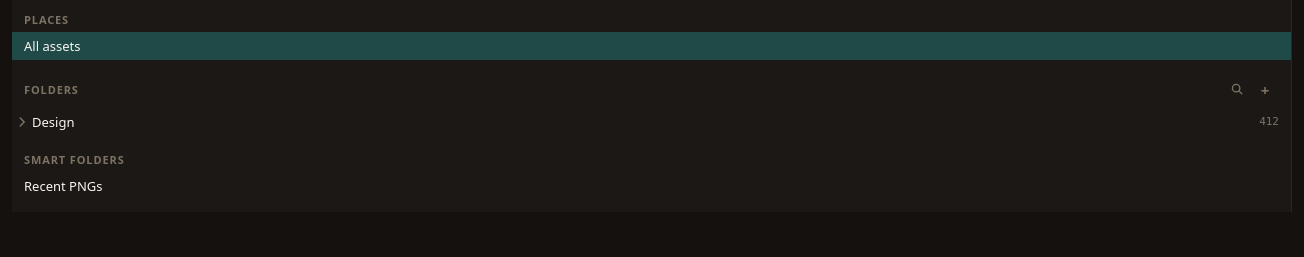
the navigation pane › starts collapsed, and an arrow opens exactly one branch
The image size is (1304, 257).
Expected: the button "Icons" is not shown
Expected: the button "Design 412" is shown, x1=32 y1=108 x2=1291 y2=136
Click the button named "Expand Design": click(22, 122) x1=12 y1=112 x2=32 y2=132
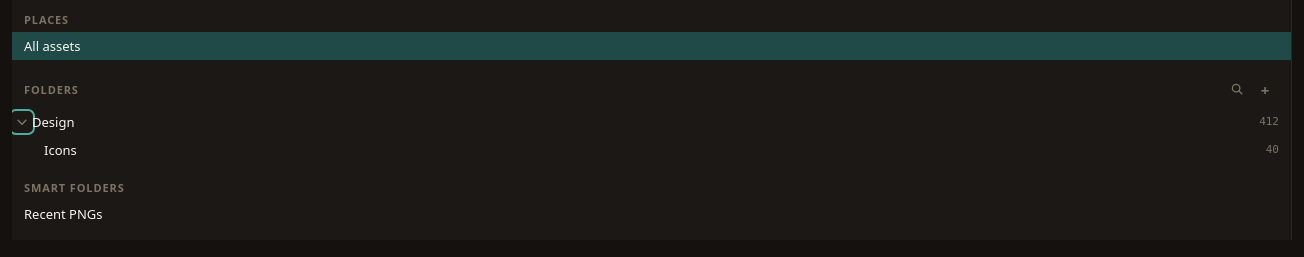
Now the button "Icons 40" is shown, box x1=44 y1=136 x2=1291 y2=164
Click the button named "Collapse Design": click(22, 122) x1=12 y1=112 x2=32 y2=132
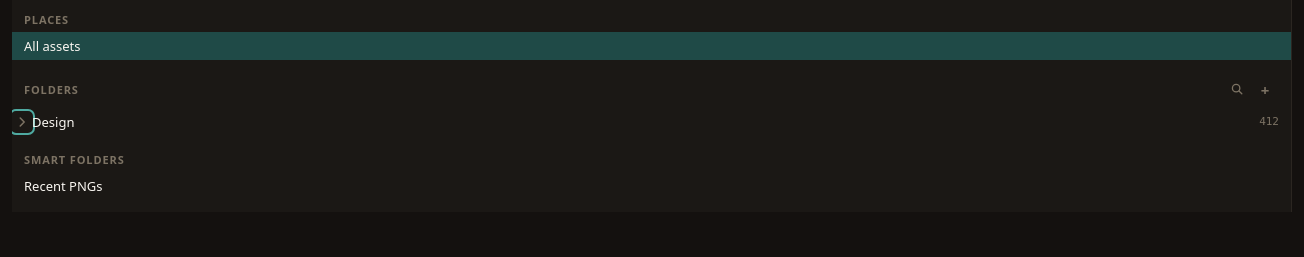
Now the button "Icons" is gone
